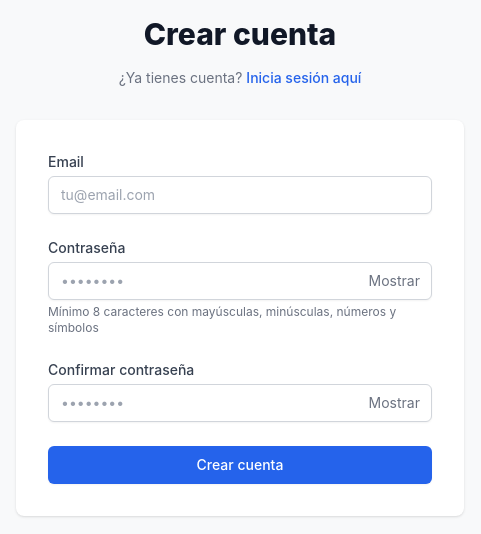
Scenario: RegisterPage › shows loading state during registration
Type "test@example.com" into the field labelled "Email".
click(240, 195); type("test@example.com")  # box left=48, top=176, right=432, bottom=214
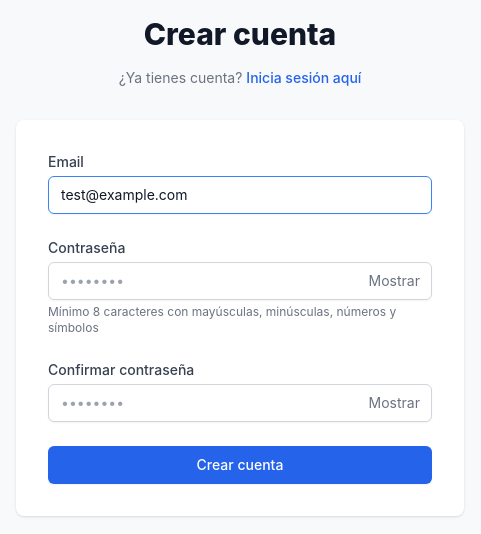
Type "ValidPass123!" into the password field labelled "Contraseña".
click(240, 281); type("ValidPass123!")  # box left=48, top=262, right=432, bottom=300
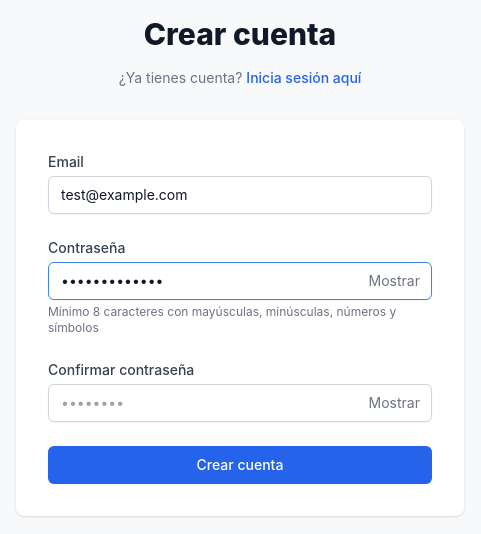
Type "ValidPass123!" into the password field labelled "Confirmar contraseña".
click(240, 403); type("ValidPass123!")  # box left=48, top=384, right=432, bottom=422
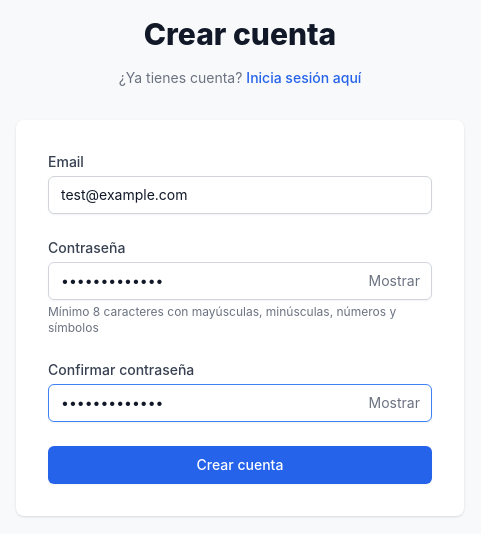
Click the button "Crear cuenta".
click(240, 465)  # box left=48, top=446, right=432, bottom=484
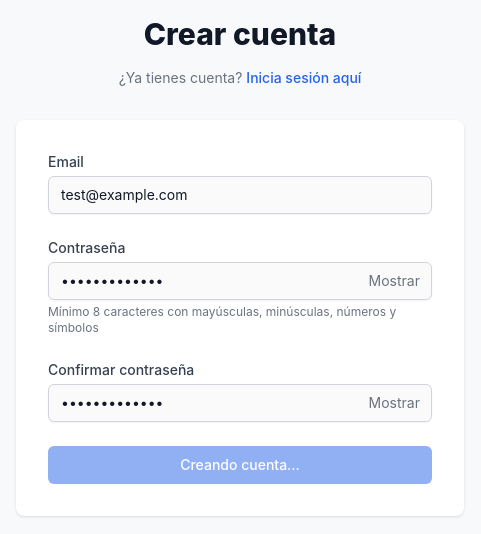
Expected: the heading "Crear cuenta" is shown, left=144, top=16, right=336, bottom=52
Now the button "Creando cuenta..." is disabled, box left=48, top=446, right=432, bottom=484
